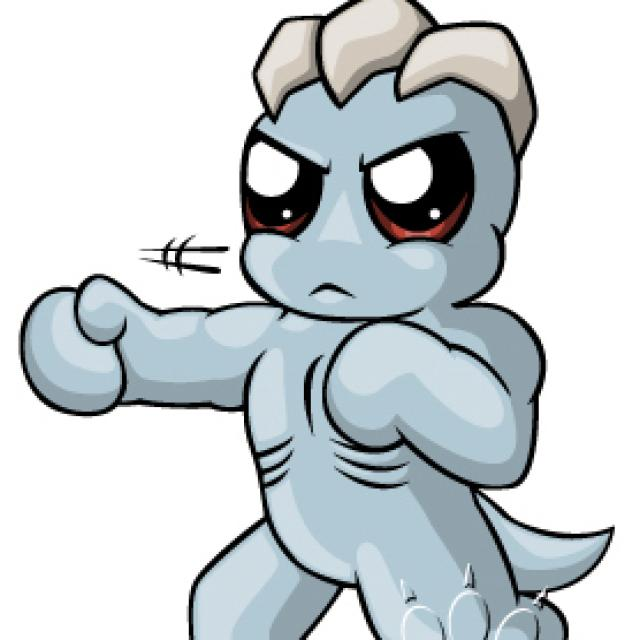Machop: (174, 0, 549, 640)
